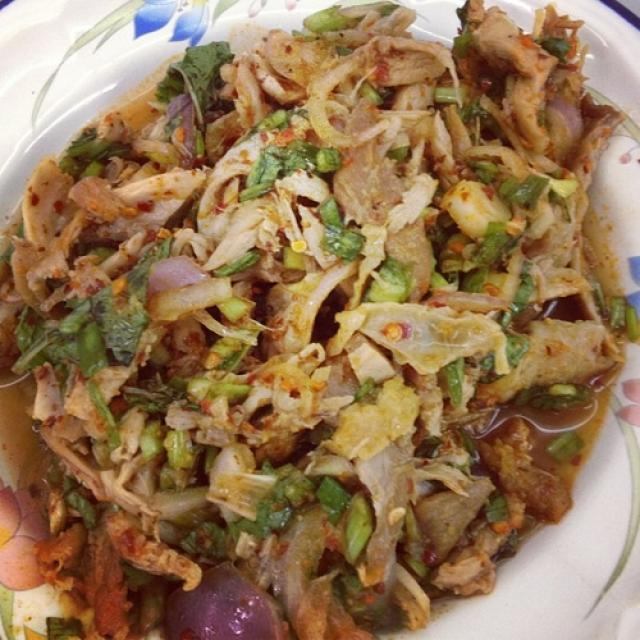鸡肉料理 含炸鸡: (11, 5, 602, 629)
